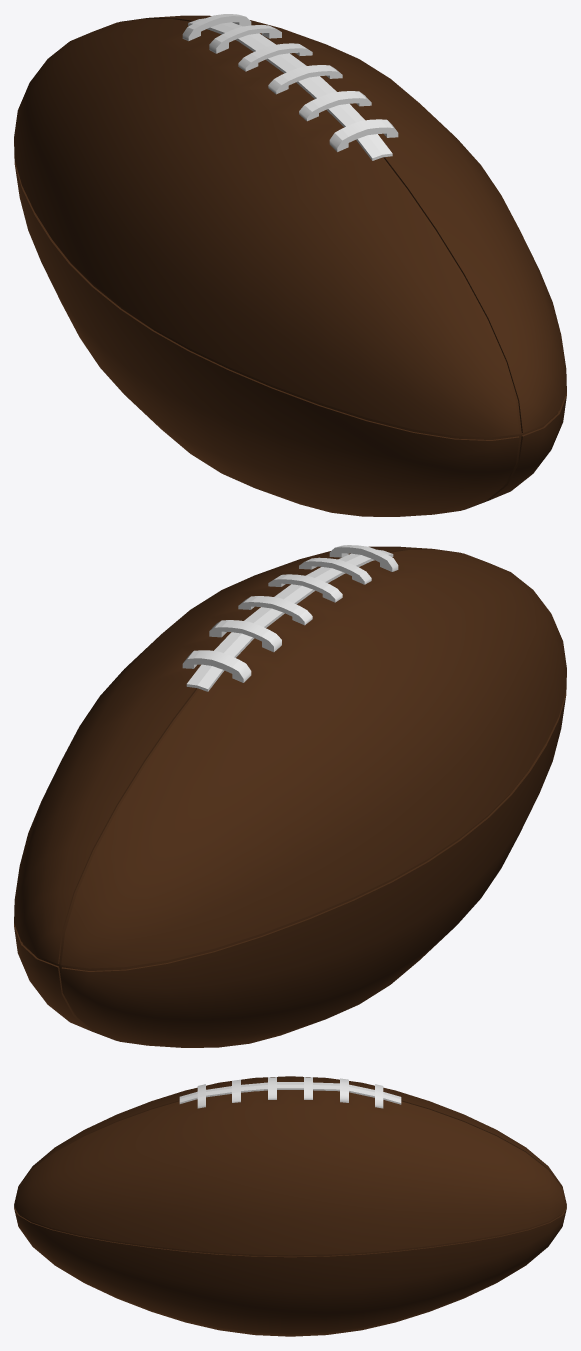
The model's file is Football.fbx.
The picture shows the model from 3 angles, top to bottom: view 1: azimuth 30°, elevation 25°; view 2: azimuth 150°, elevation 25°; view 3: azimuth 270°, elevation 25°; orthographic projection. The views are drawn at different scales.
Parts seen in each view (by area): view 1: pSphere1; view 2: pSphere1; view 3: pSphere1.
Part boxes in pixels (bbox=[...]): pSphere1: bbox=[14, 14, 566, 516]; pSphere1: bbox=[14, 545, 566, 1047]; pSphere1: bbox=[14, 1076, 566, 1336].
Size of the model in its own units: 7.29 by 8.38 by 17.13.
